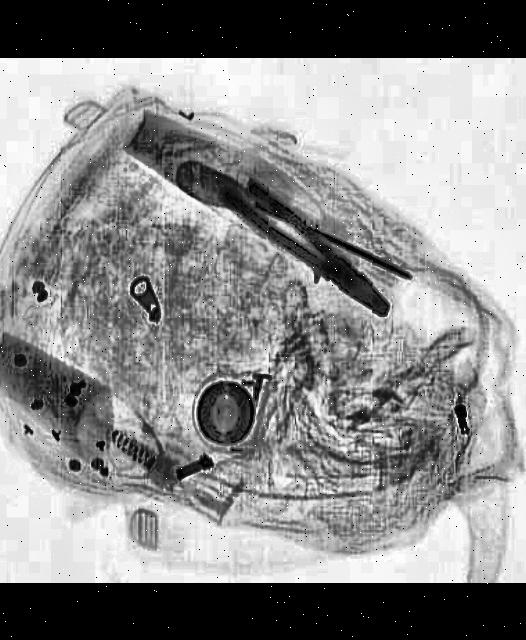Pliers: (220, 172, 404, 326)
